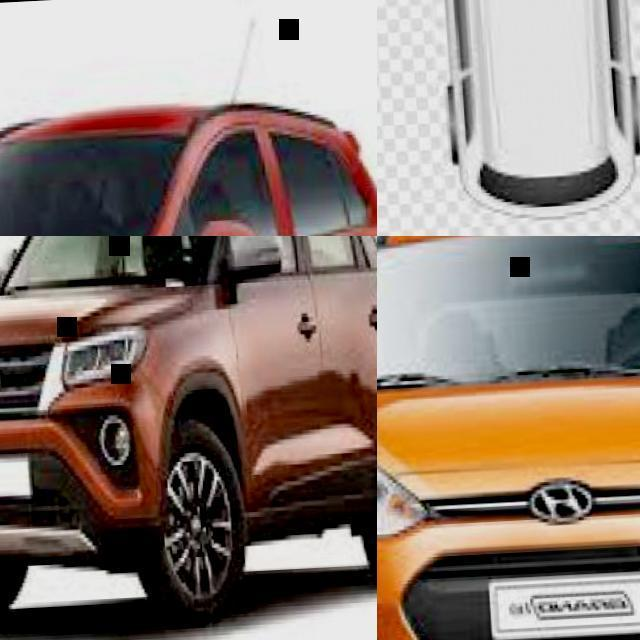car: (104, 16, 391, 624), (4, 566, 147, 627), (209, 239, 280, 303)
